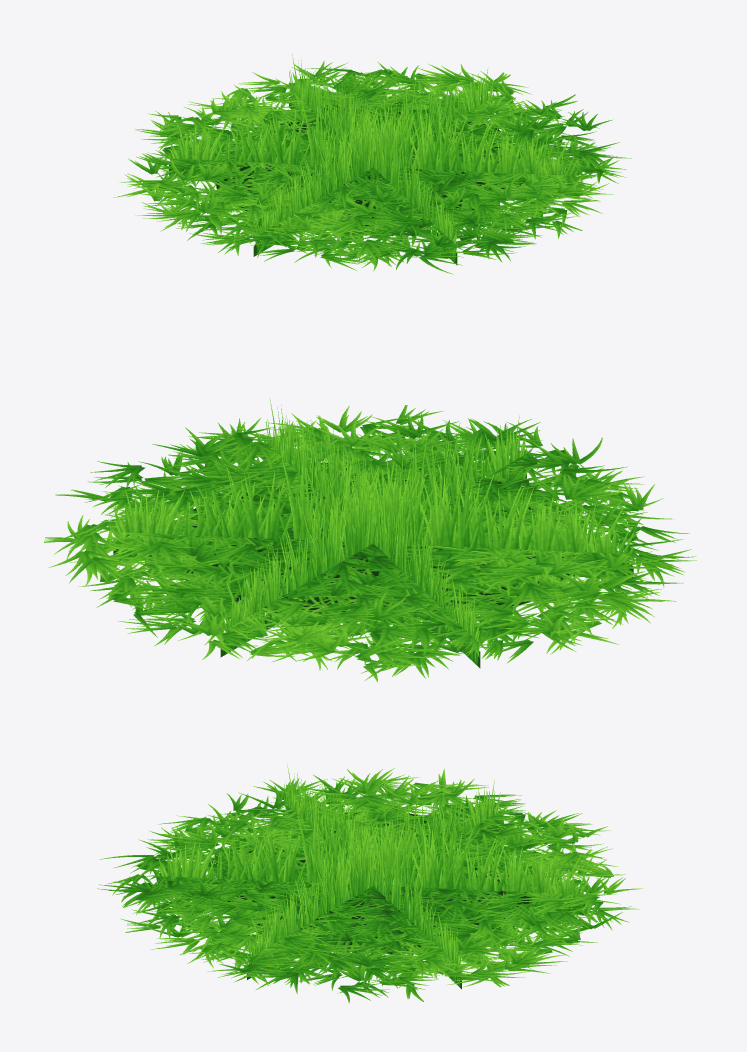
The model's file is grass_tuft.glb.
3 views of the same model, one above another, from view 1: azimuth 30°, elevation 25°; view 2: azimuth 150°, elevation 25°; view 3: azimuth 270°, elevation 25° (orthographic). The views are drawn at different scales.
Parts seen in each view (by area): view 1: grass_tuft; view 2: grass_tuft; view 3: grass_tuft.
Boxes of the visible parts, x1=… form: grass_tuft: x1=113, y1=53, x2=631, y2=274; grass_tuft: x1=44, y1=398, x2=696, y2=682; grass_tuft: x1=97, y1=763, x2=642, y2=1003.
Size of the model in its own units: 2.09 by 0.3153 by 2.09.
2 materials, 2 textured.
